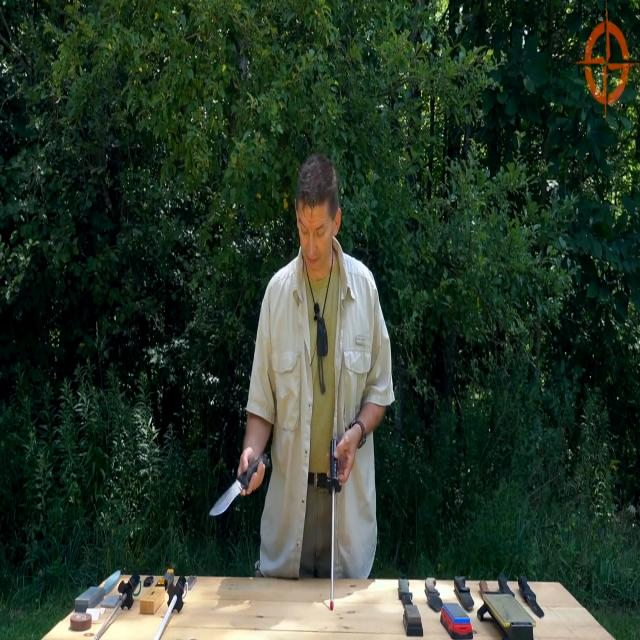knife: (210, 452, 266, 522), (518, 571, 548, 621), (454, 573, 478, 615), (423, 575, 445, 615)
